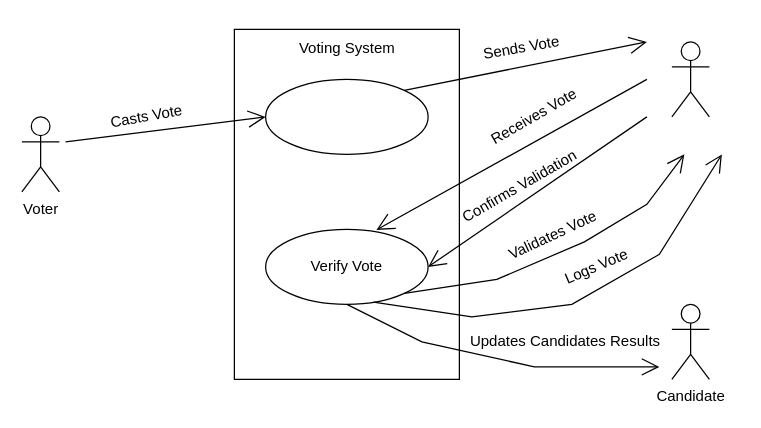
Some shapes in this 761 by 428 pixel diagram are drawn without their labels. The centre of each missing label's shape, as x and y in pixels:
Blockchain: (690,79)
Cast Vote: (346,116)
